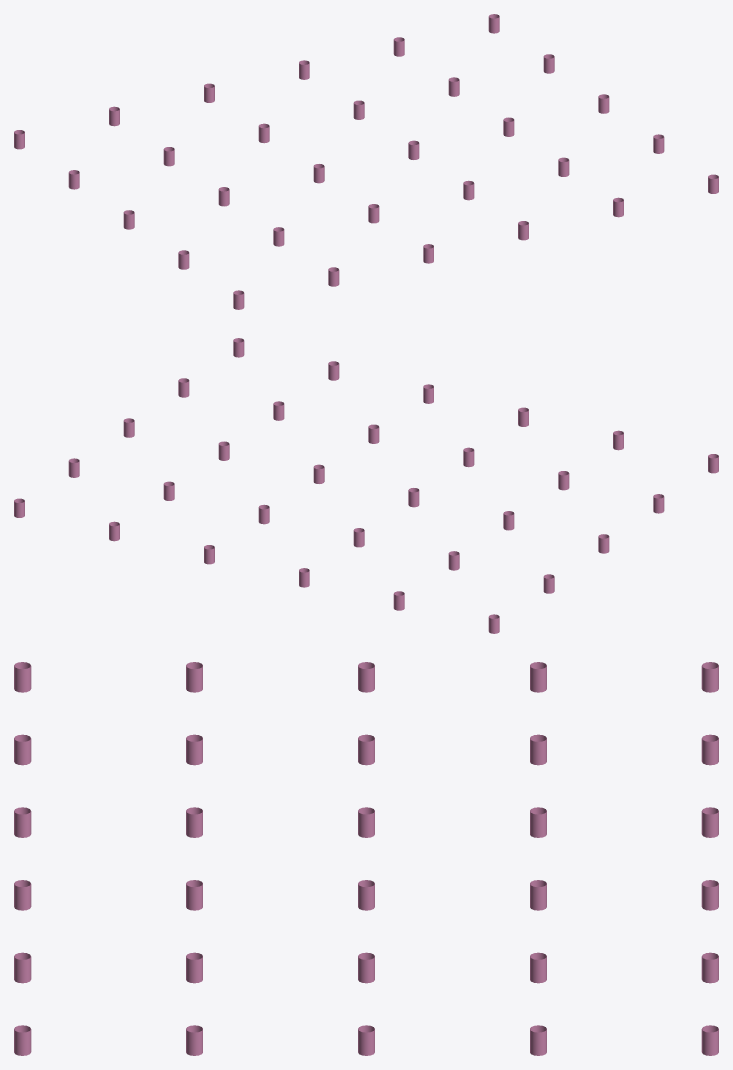
File: AD_Lights.fbx
The picture shows the model from 3 angles, top to bottom: view 1: azimuth 30°, elevation 25°; view 2: azimuth 150°, elevation 25°; view 3: azimuth 270°, elevation 25°; orthographic projection. The views are drawn at different scales.
Size of the model in its own units: 1020 by 30 by 820.
